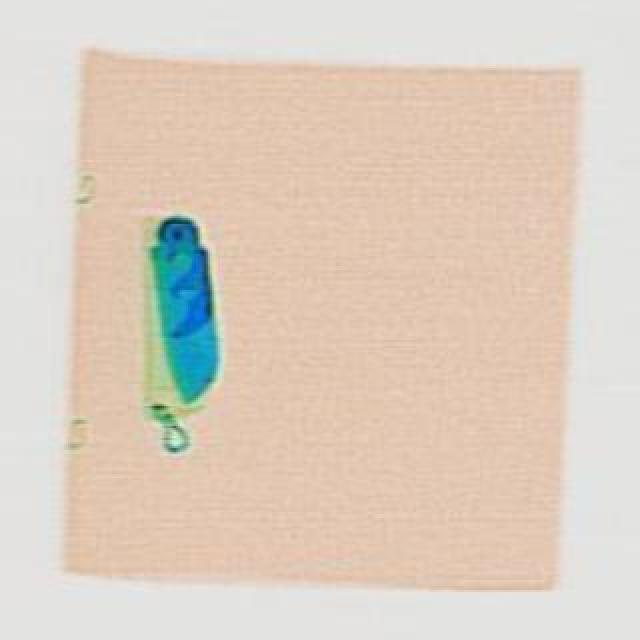knife: (152, 210, 232, 406)
